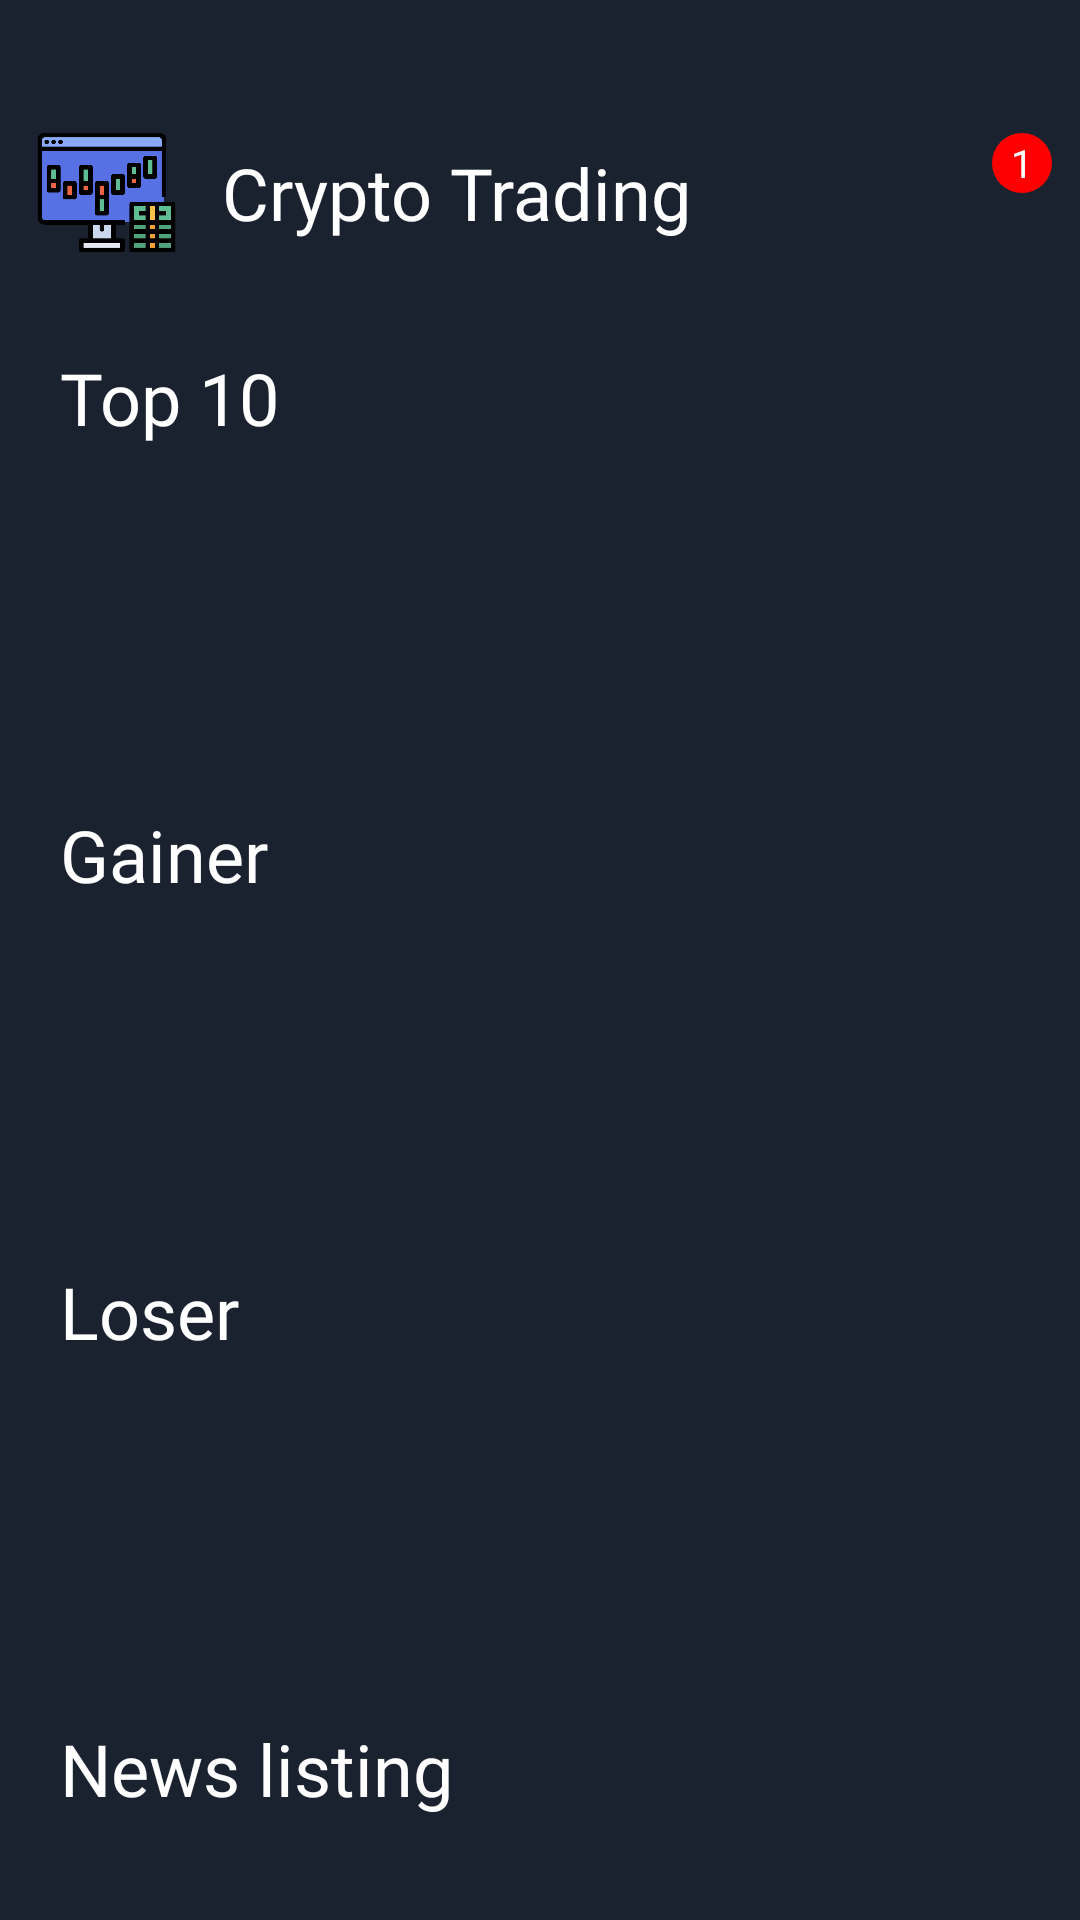

Icons on this 1080 x 1920 Android screen, each with its box as (x1, y1, x2, y2):
investment: (38, 133, 175, 252)
